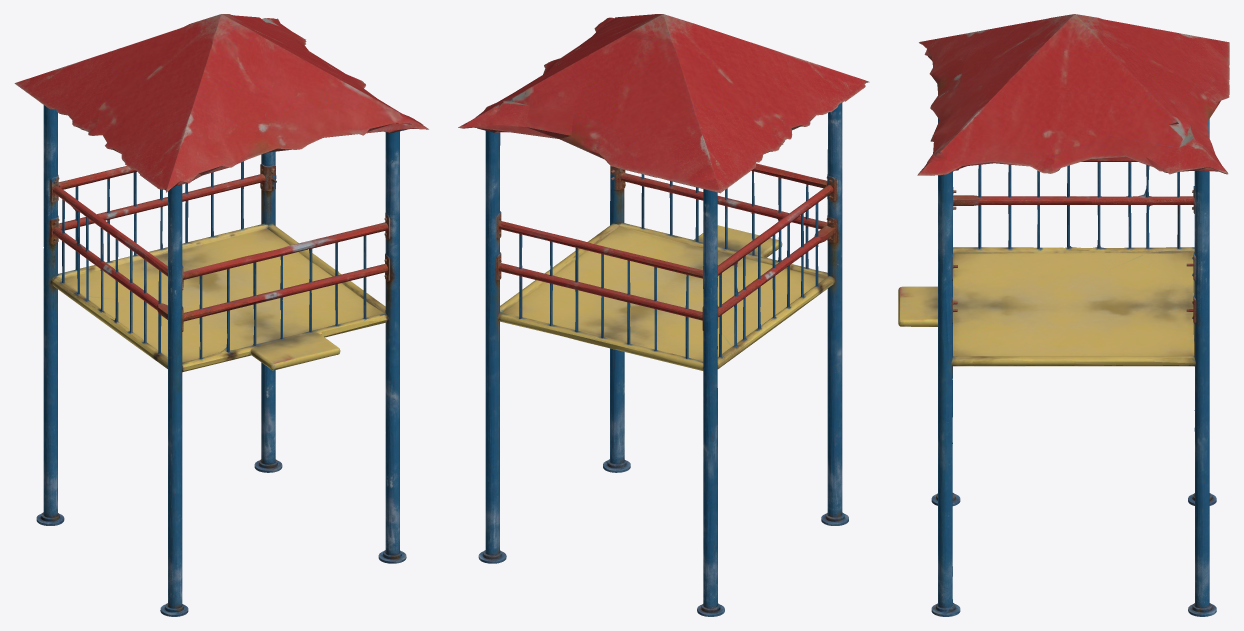
Rendered from modulo_rossa.glb.
3 renders of one model, left to right at view 1: azimuth 30°, elevation 25°; view 2: azimuth 150°, elevation 25°; view 3: azimuth 270°, elevation 25°, orthographic. The views are drawn at different scales.
Visible parts, largest first — view 1: Mesh_0; view 2: Mesh_0; view 3: Mesh_0.
Part boxes in pixels (x1=…): Mesh_0: x1=14, y1=14, x2=428, y2=616; Mesh_0: x1=458, y1=14, x2=869, y2=616; Mesh_0: x1=898, y1=14, x2=1229, y2=616.
Bounding box in the file's own units: 0.9993 × 1.9 × 1.05.
Materials: 1 (1 with a texture image).
